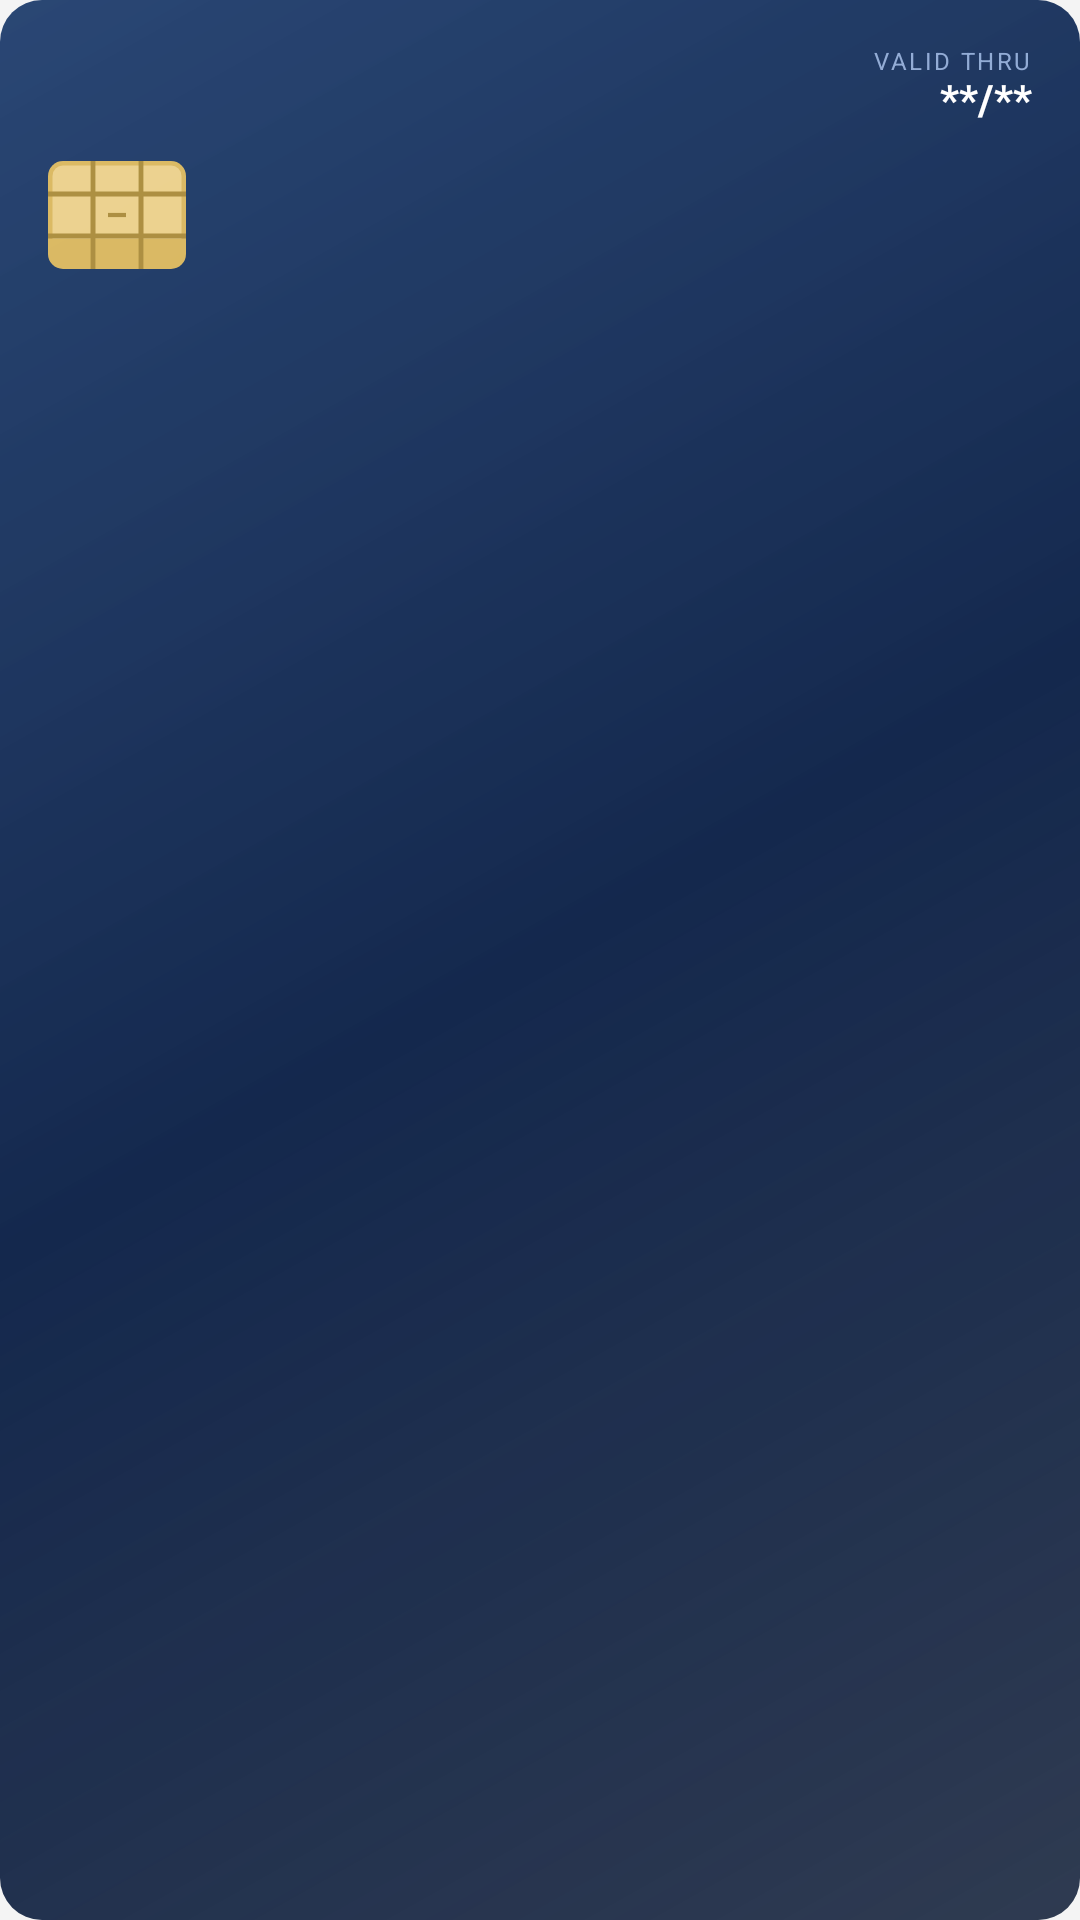

Screen size 1080px x 1920px. Icon name, then its center in pixels as [x,y]:
emv chip: [117,215]
